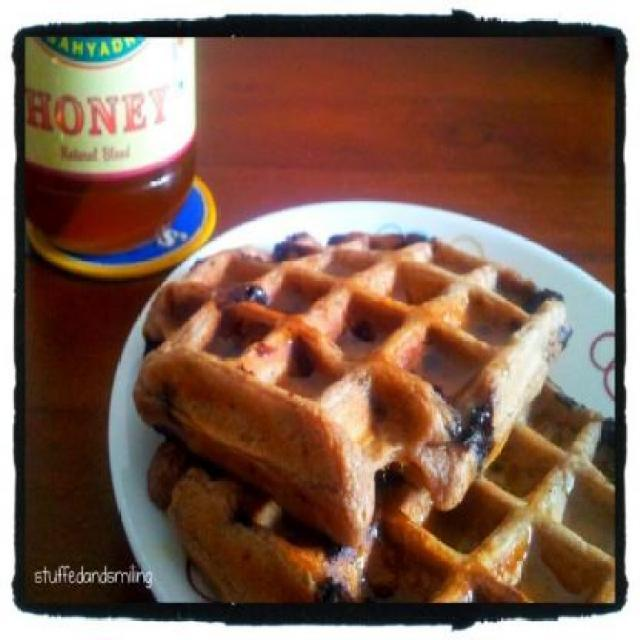Waffle: (130, 226, 568, 551), (168, 376, 616, 604)
